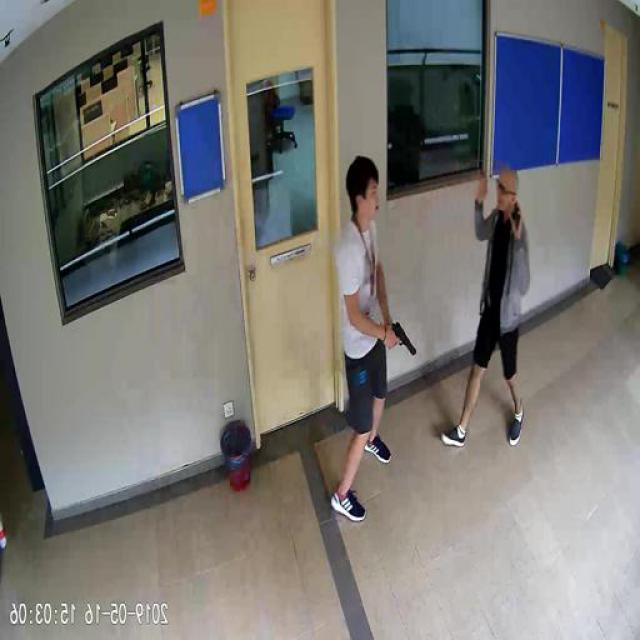Gun: (395, 318, 419, 352)
